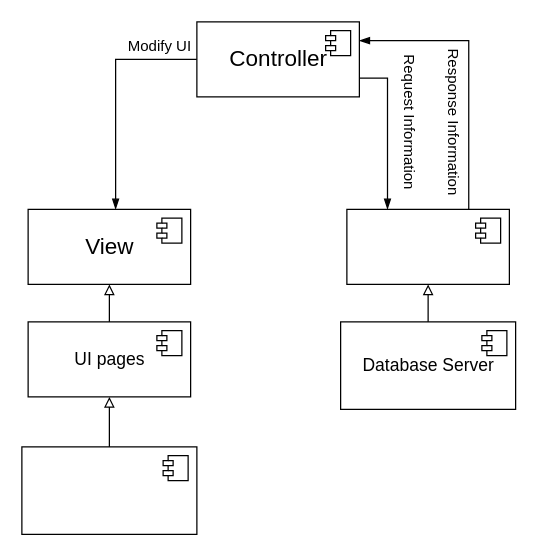
Some shapes in this 538 by 556 pixel diagram are drawn without their labels. Each missing label, with the centre of its shape:
"Model" goes at (427,246).
"UI Components" goes at (109,490).
